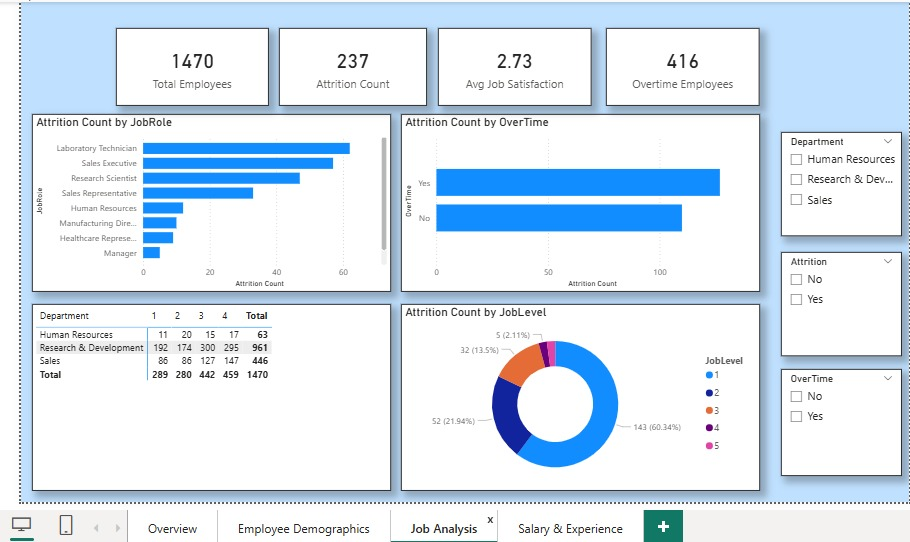

What the dashboard file says about the page in this screenshot:
{"tool":"powerbi","page":{"name":"Job Analysis","canvas":[1280,720],"ordinal":2},"visuals":[{"type":"clusteredBarChart","fields":{"Y":["Dax Measures.Attrition Count"],"Category":["HR Data.JobRole"]},"box":[15.8,161.3,517,256.3],"z":0},{"type":"pivotTable","fields":{"Rows":["HR Data.Department"],"Columns":["HR Data.JobSatisfaction"],"Values":["Dax Measures.Total Employees"]},"box":[15.8,434.9,517,269.3],"z":1000},{"type":"clusteredBarChart","fields":{"Category":["HR Data.OverTime"],"Y":["Dax Measures.Attrition Count"]},"box":[547.2,161.3,517,256.3],"z":2000},{"type":"card","fields":{"Values":["Dax Measures.Total Employees"]},"box":[137.5,36.9,219.7,112],"z":3000},{"type":"card","fields":{"Values":["Dax Measures.Attrition Count"]},"box":[371.3,36.9,212.6,112],"z":4000},{"type":"card","fields":{"Values":["Dax Measures.Avg Job Satisfaction"]},"box":[600.9,36.9,221.1,112],"z":5000},{"type":"card","fields":{"Values":["Dax Measures.Overtime Employees"]},"box":[841.9,36.9,221.1,112],"z":6000},{"type":"donutChart","fields":{"Category":["HR Data.JobLevel"],"Y":["Dax Measures.Attrition Count"]},"box":[547.2,434.9,517,269.3],"z":7000},{"type":"slicer","fields":{"Values":["HR Data.Department"]},"box":[1094.4,187.2,174.2,149.8],"z":8000},{"type":"slicer","fields":{"Values":["HR Data.Attrition"]},"box":[1094.4,360,174.2,149.8],"z":9000},{"type":"slicer","fields":{"Values":["HR Data.OverTime"]},"box":[1094.4,528.5,174.2,154.1],"z":10000}]}

Visuals, with their boxes on the page's 1280x720 design canvas (x1, y1, x2, y2). These are canvas units, not pixel positions in the 910x542 screenshot, which may show the page scaled, cropped or inside an application window:
clusteredBarChart - Dax Measures.Attrition Count x HR Data.JobRole: 16/161/533/418
pivotTable - HR Data.Department x HR Data.JobSatisfaction: 16/435/533/704
clusteredBarChart - HR Data.OverTime x Dax Measures.Attrition Count: 547/161/1064/418
card - Dax Measures.Total Employees: 138/37/357/149
card - Dax Measures.Attrition Count: 371/37/584/149
card - Dax Measures.Avg Job Satisfaction: 601/37/822/149
card - Dax Measures.Overtime Employees: 842/37/1063/149
donutChart - HR Data.JobLevel x Dax Measures.Attrition Count: 547/435/1064/704
slicer - HR Data.Department: 1094/187/1269/337
slicer - HR Data.Attrition: 1094/360/1269/510
slicer - HR Data.OverTime: 1094/528/1269/683
